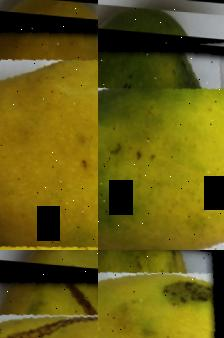PartiallyRipe: (98, 31, 224, 250)
Ripe: (0, 14, 98, 250), (98, 250, 223, 338), (0, 265, 98, 338)
